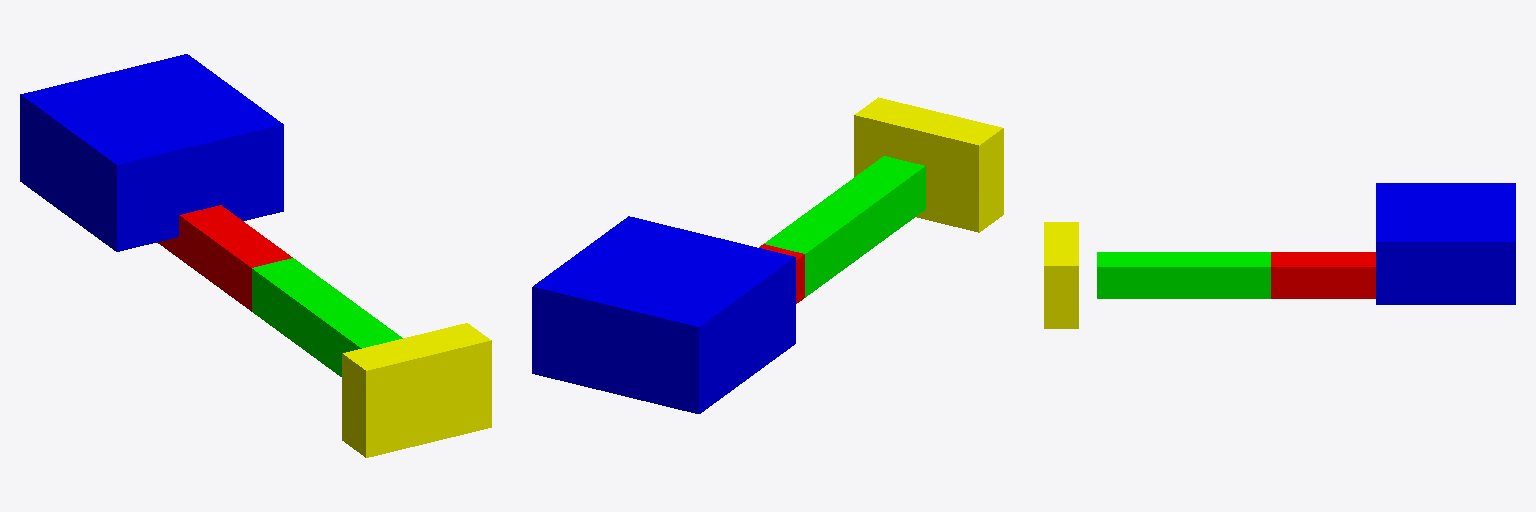
The robot description file, URDF, robot "neptr":
<?xml version="1.0" ?>
<!-- =================================================================================== -->
<!-- |    This document was autogenerated by xacro from [local-path]/ros2_ws/src/neptr_description/urdf/neptr.urdf.xacro | -->
<!-- |    EDITING THIS FILE BY HAND IS NOT RECOMMENDED                                 | -->
<!-- =================================================================================== -->
<robot name="neptr">
  <!-- Root Link -->
  <link name="world"/>
  <!-- Base Link -->
  <link name="base_link">
    <visual>
      <origin rpy="0 0 0" xyz="0 0 0"/>
      <geometry>
        <box size="0.2 0.2 0.1"/>
      </geometry>
      <material name="blue">
        <color rgba="0 0 1 1"/>
      </material>
    </visual>
  </link>
  <!-- Fixed Joint to World -->
  <joint name="world_to_base" type="fixed">
    <parent link="world"/>
    <child link="base_link"/>
    <origin rpy="0 0 0" xyz="0 0 0"/>
  </joint>
  <!-- Thigh -->
  <link name="thigh">
    <visual>
      <origin rpy="0 0 0" xyz="0 -0.125 0"/>
      <geometry>
        <box size="0.05 0.25 0.05"/>
      </geometry>
      <material name="red">
        <color rgba="1 0 0 1"/>
      </material>
    </visual>
  </link>
  <!-- Hip Joint -->
  <joint name="hip_joint" type="revolute">
    <parent link="base_link"/>
    <child link="thigh"/>
    <origin rpy="0 0 0" xyz="0 0 -0.05"/>
    <axis xyz="0 1 0"/>
    <limit effort="10" lower="-1.57" upper="1.57" velocity="2"/>
  </joint>
  <!-- Shin -->
  <link name="shin">
    <visual>
      <origin rpy="0 0 0" xyz="0 -0.125 0"/>
      <geometry>
        <box size="0.05 0.25 0.05"/>
      </geometry>
      <material name="green">
        <color rgba="0 1 0 1"/>
      </material>
    </visual>
  </link>
  <!-- Knee Joint -->
  <joint name="knee_joint" type="revolute">
    <parent link="thigh"/>
    <child link="shin"/>
    <origin rpy="0 0 0" xyz="0 -0.25 0"/>
    <axis xyz="0 1 0"/>
    <limit effort="10" lower="0" upper="2.5" velocity="2"/>
  </joint>
  <!-- Foot -->
  <link name="foot">
    <visual>
      <origin rpy="0 0 0" xyz="0 -0.05 0"/>
      <geometry>
        <box size="0.15 0.05 0.1"/>
      </geometry>
      <material name="yellow">
        <color rgba="1 1 0 1"/>
      </material>
    </visual>
  </link>
  <!-- Ankle Joint -->
  <joint name="ankle_joint" type="revolute">
    <parent link="shin"/>
    <child link="foot"/>
    <origin rpy="0 0 0" xyz="0 -0.25 0"/>
    <axis xyz="1 0 0"/>
    <limit effort="10" lower="-1.57" upper="1.57" velocity="2"/>
  </joint>
</robot>

--- Render facts (derived) ---
The picture shows the robot from 3 angles, left to right: view 1: azimuth 30°, elevation 25°; view 2: azimuth 150°, elevation 25°; view 3: azimuth 270°, elevation 25°; orthographic projection.
Model neptr with 5 links and 4 joints (3 revolute, 1 fixed), rooted at world, posed every joint at zero.
Visible links, largest first — view 1: base_link, foot, shin, thigh; view 2: base_link, foot, shin, thigh; view 3: base_link, shin, thigh, foot.
Link boxes in pixels (box(x1,y1,x2,y2)): base_link: box(20, 54, 283, 251); foot: box(342, 323, 491, 457); shin: box(252, 258, 402, 376); thigh: box(157, 205, 292, 311); base_link: box(532, 216, 795, 413); foot: box(854, 97, 1003, 232); shin: box(764, 156, 925, 297); thigh: box(759, 244, 804, 303); base_link: box(1376, 183, 1515, 304); shin: box(1097, 252, 1270, 298); thigh: box(1271, 252, 1375, 298); foot: box(1044, 222, 1078, 328).
Size in the robot's own frame: 0.2 by 0.675 by 0.15 metres.
Geometry: primitives only (box / cylinder / sphere), no mesh files.